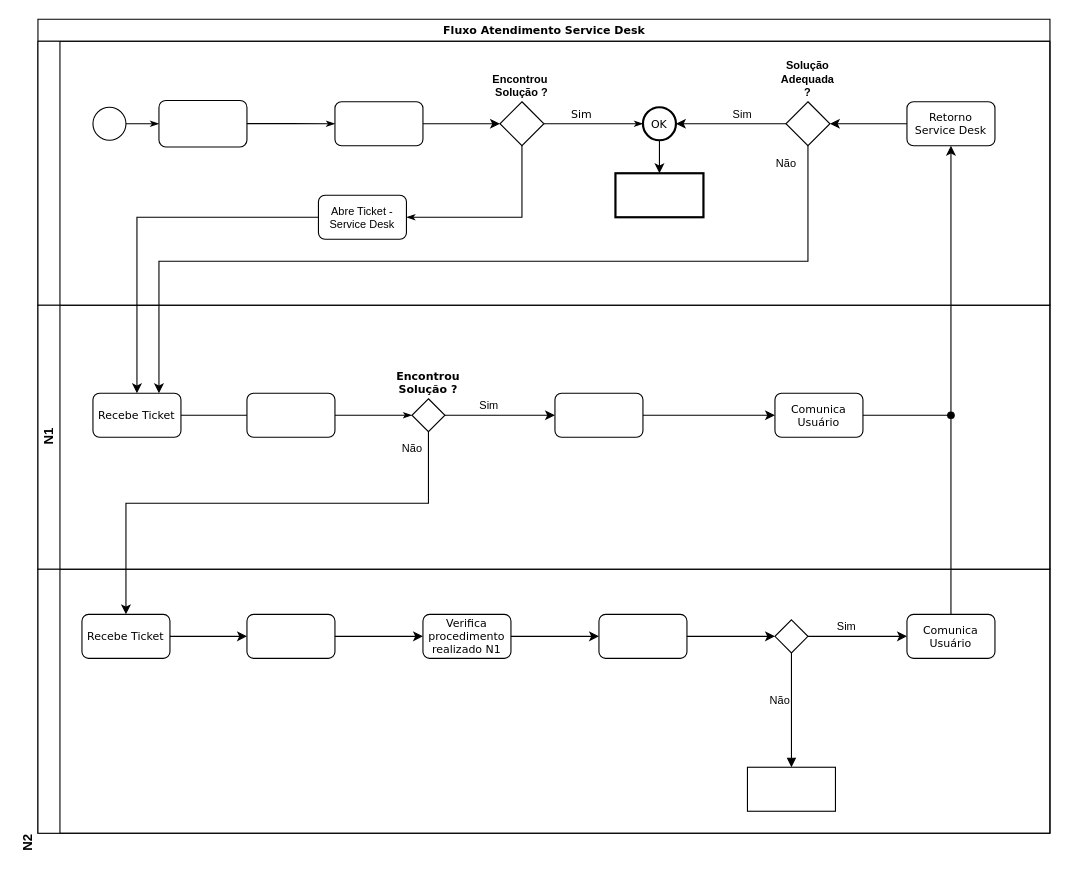
This 1069x871 diagram has some shape labels left out. The shapes that lost their labels are listed below. From the top down, each one's centre as x and y in pixels, then its label:
At point 202,123: "Encontra Problema".
At point 378,123: "Verifica KB (Base de Conhecimento)".
At point 659,195: "Encerra Ticket".
At point 290,414: "Consulta KB - Problemas Conhecidos".
At point 598,414: "Categoriza Ticket.".
At point 290,635: "Analisa Reclamação do Usuário".
At point 642,635: "Realiza Testes".
At point 790,788: "Escala para Nível Superior".
